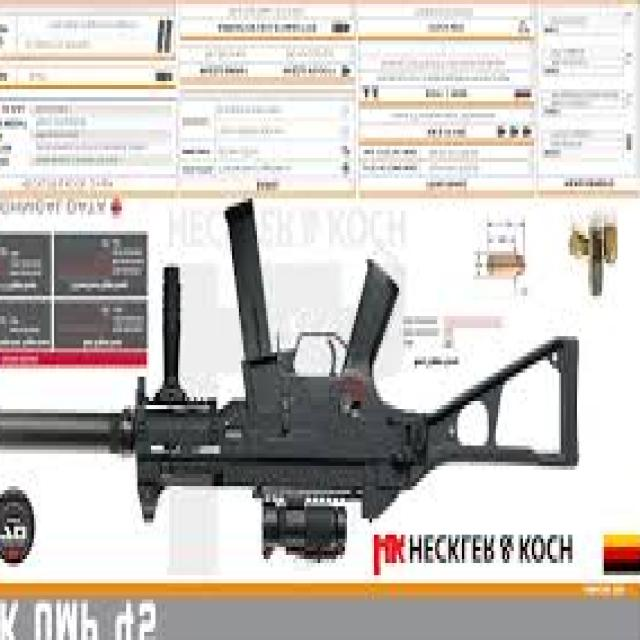Gun: (0, 223, 597, 575)
